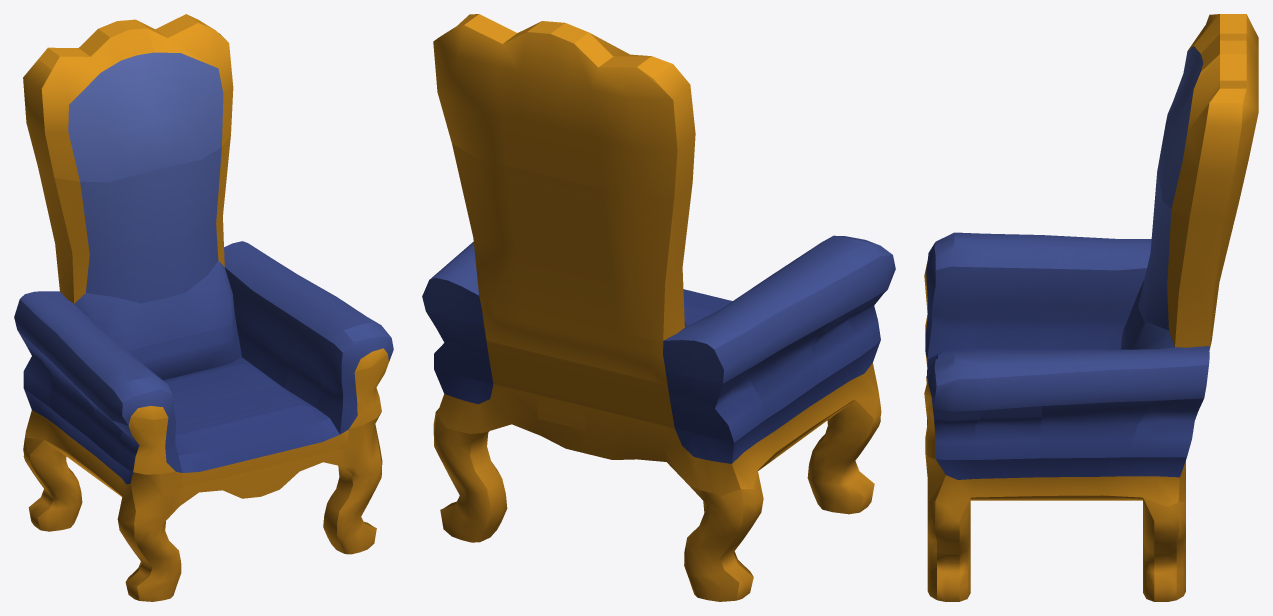
The model's file is nojatuoli.fbx.
3 renders of one model, left to right at view 1: azimuth 30°, elevation 25°; view 2: azimuth 150°, elevation 25°; view 3: azimuth 270°, elevation 25°, orthographic. The views are drawn at different scales.
Parts seen in each view (by area): view 1: pCube1; view 2: pCube1; view 3: pCube1.
Part boxes in pixels (x1,y1,x2,y2): pCube1: [14, 14, 393, 601]; pCube1: [422, 14, 895, 601]; pCube1: [924, 14, 1258, 601].
Bounding box in the file's own units: 0.7497 × 1.16 × 0.7086.
